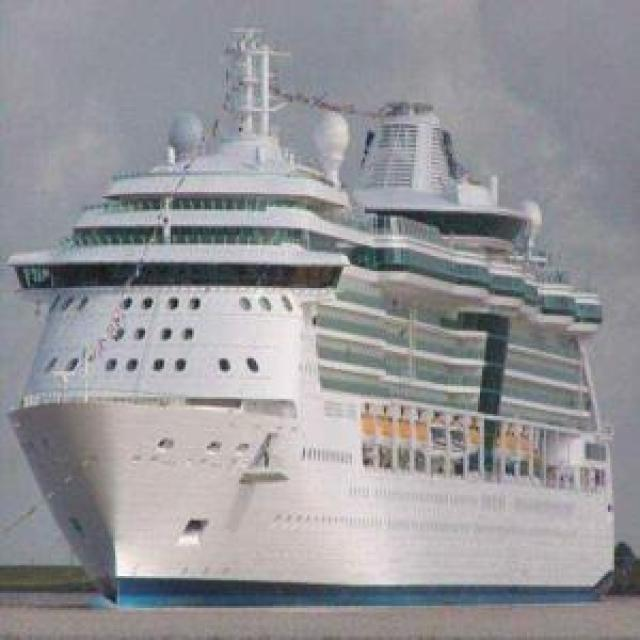passenger ship: (17, 33, 616, 606)
